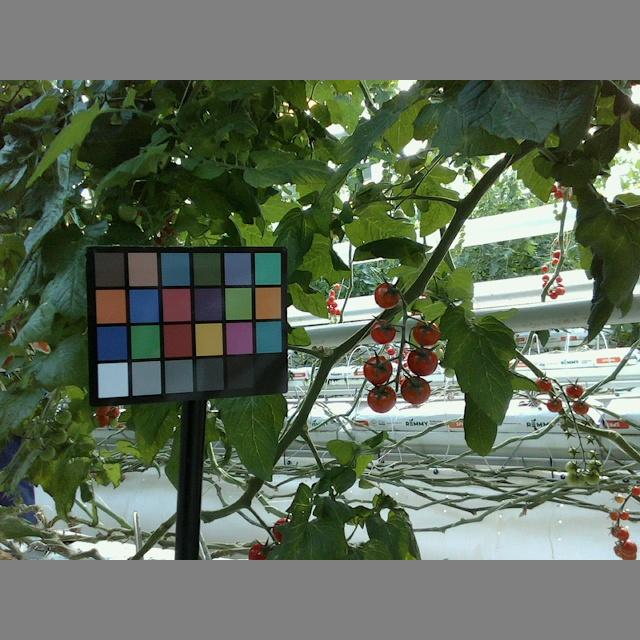red: (401, 374, 432, 405), (406, 345, 437, 375), (365, 385, 397, 413), (373, 281, 401, 310), (411, 319, 441, 345), (364, 352, 389, 383), (370, 319, 395, 346)
